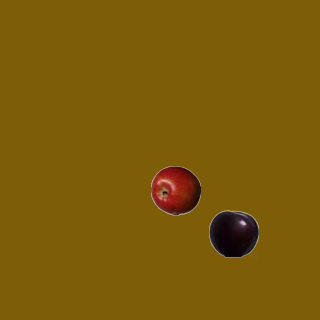Apple Braeburn: (150, 165, 200, 215)
Cherry Wax Black: (208, 208, 258, 258)
